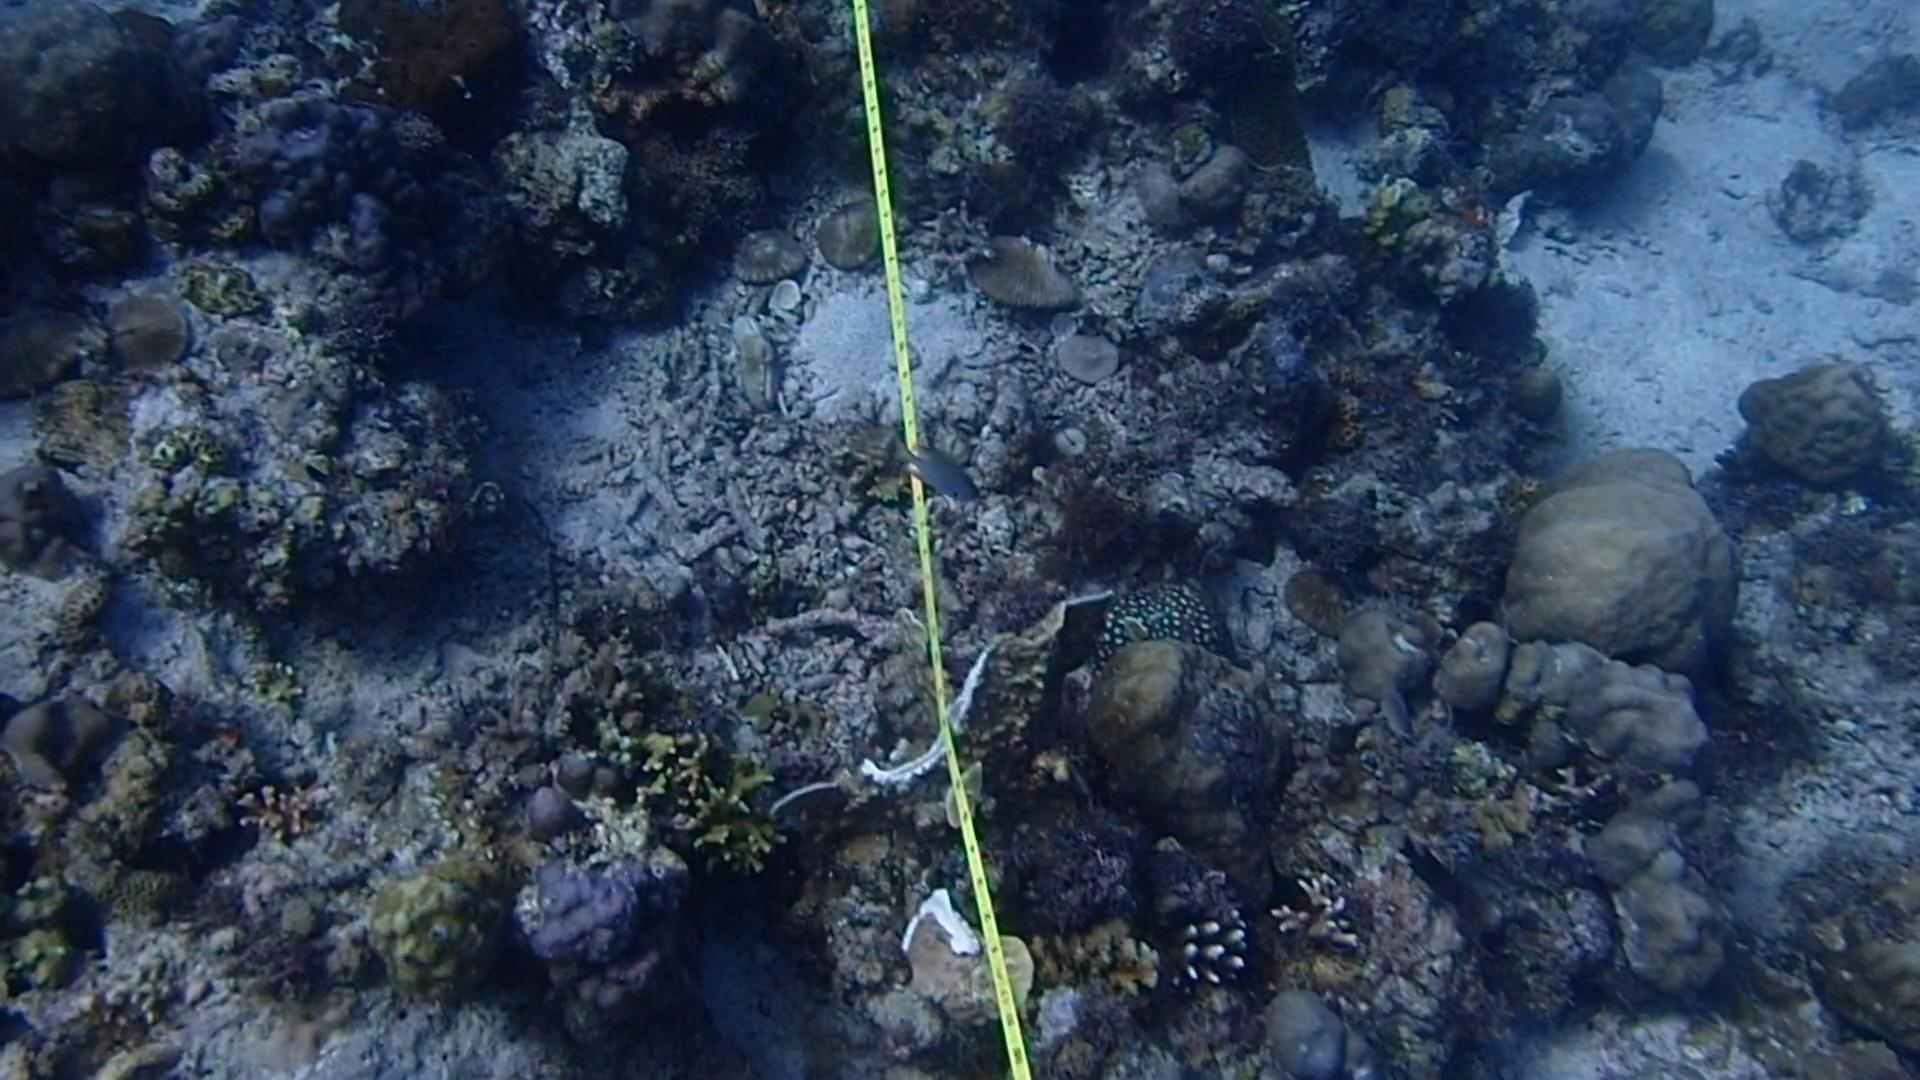Light Fish: (884, 438, 988, 520)
